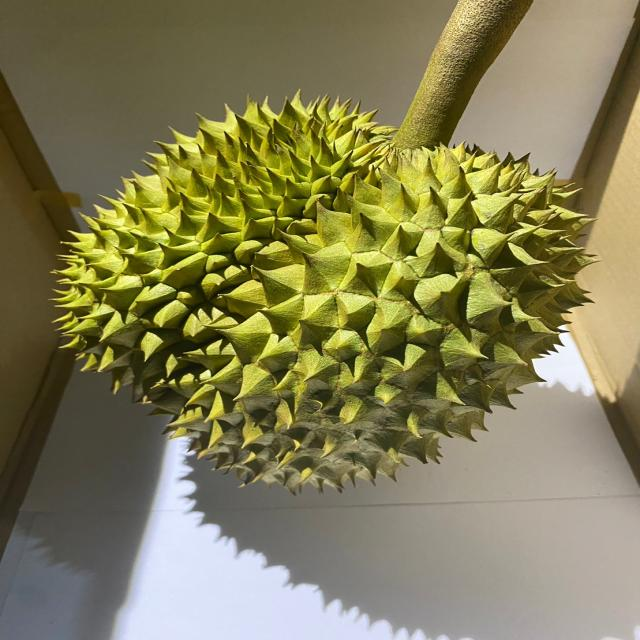immature: (48, 87, 603, 507)
